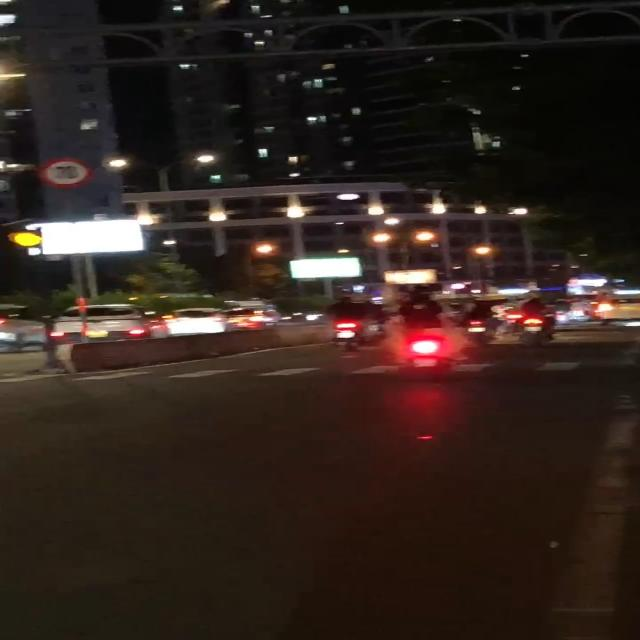Bien bao toc do toi da cho phep: (30, 155, 95, 191)
